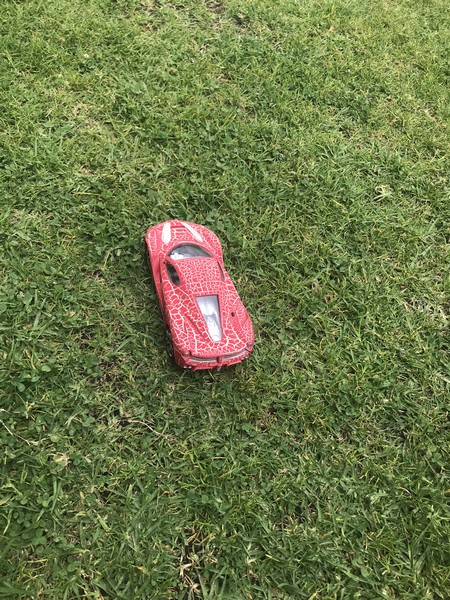RC: (142, 219, 258, 374)
